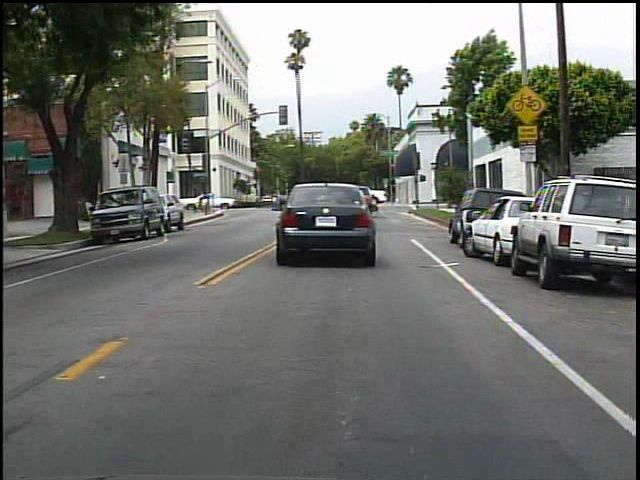person: (196, 192, 207, 216)
